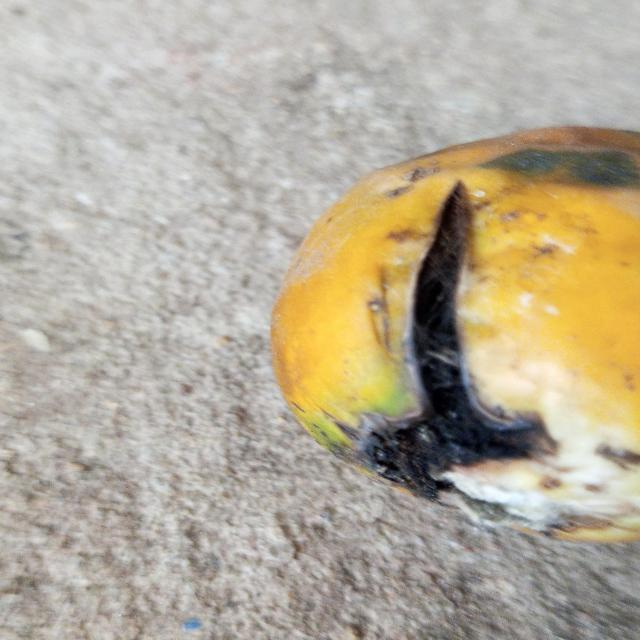damaged: (268, 126, 640, 548)
